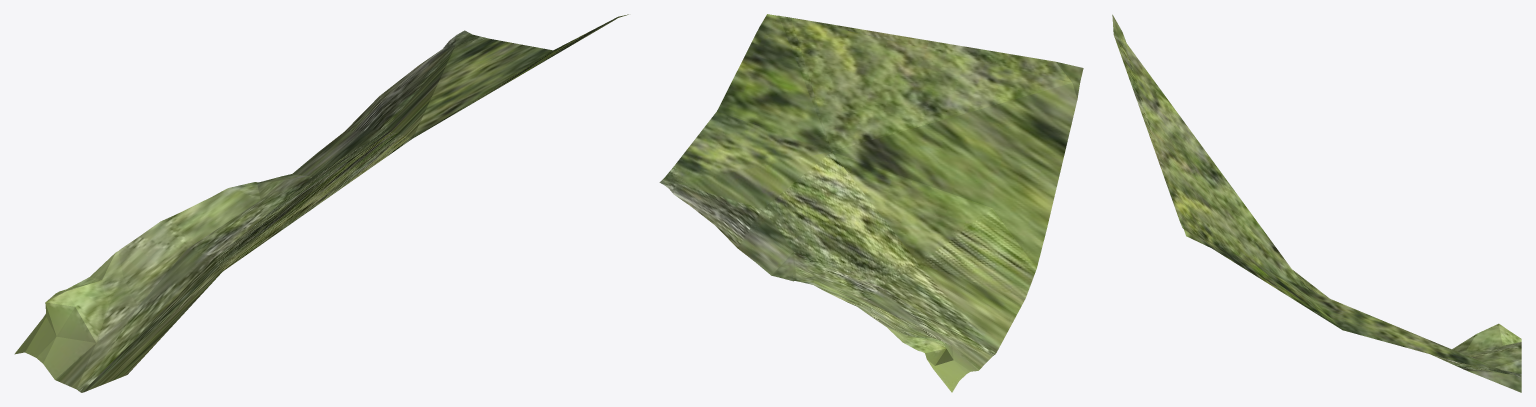
3 renders of one model, left to right at view 1: azimuth 30°, elevation 25°; view 2: azimuth 150°, elevation 25°; view 3: azimuth 270°, elevation 25°, orthographic. The views are drawn at different scales.
Bounding box in the file's own units: 26.11 × 19.49 × 20.33.
Materials: 3 (3 with a texture image).
